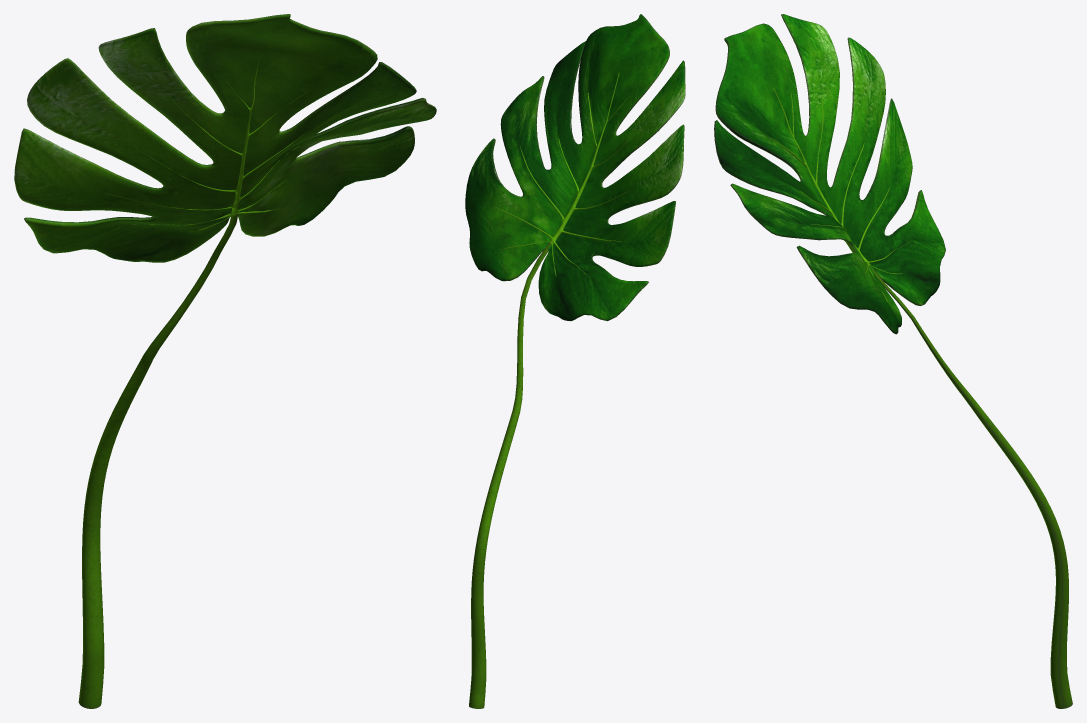
Rendered from monstera.glb.
3 views of the same model, side by side, from view 1: azimuth 30°, elevation 25°; view 2: azimuth 150°, elevation 25°; view 3: azimuth 270°, elevation 25° (orthographic). The views are drawn at different scales.
Parts seen in each view (by area): view 1: Object_2; view 2: Object_2; view 3: Object_2.
Part boxes in pixels (bbox=[...]): Object_2: bbox=[14, 14, 436, 708]; Object_2: bbox=[465, 14, 685, 708]; Object_2: bbox=[714, 14, 1072, 708].
Size of the model in its own units: 0.4237 by 1 by 0.4924.
Materials: 1 (1 with a texture image).
